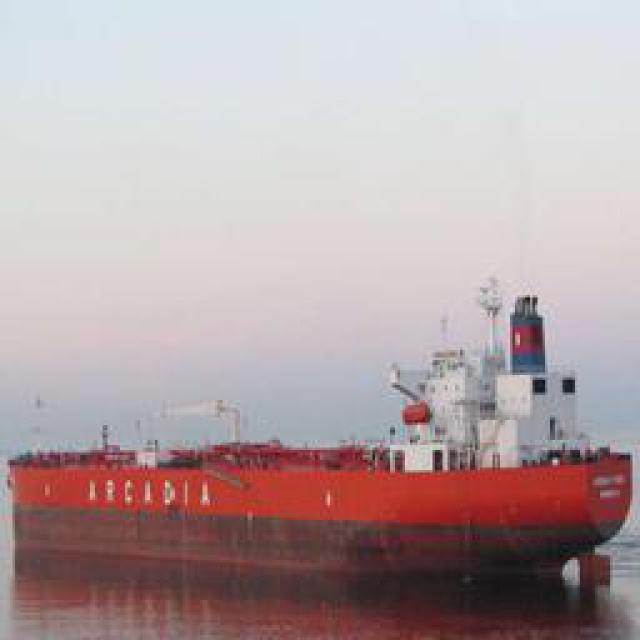Ship: (11, 399, 629, 592)
